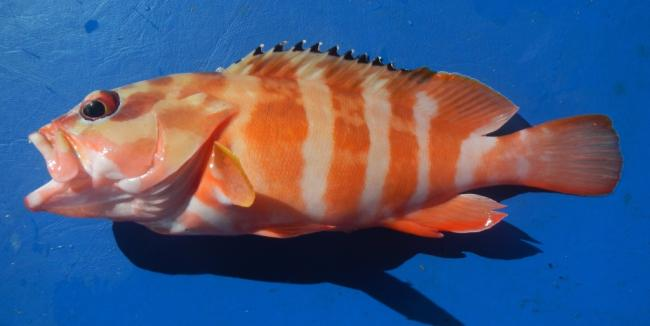fish: (24, 39, 623, 239)
